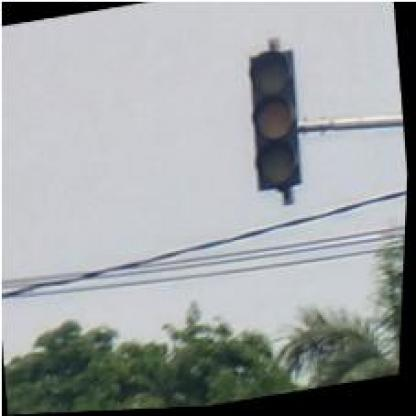yellow: (239, 48, 307, 194)
